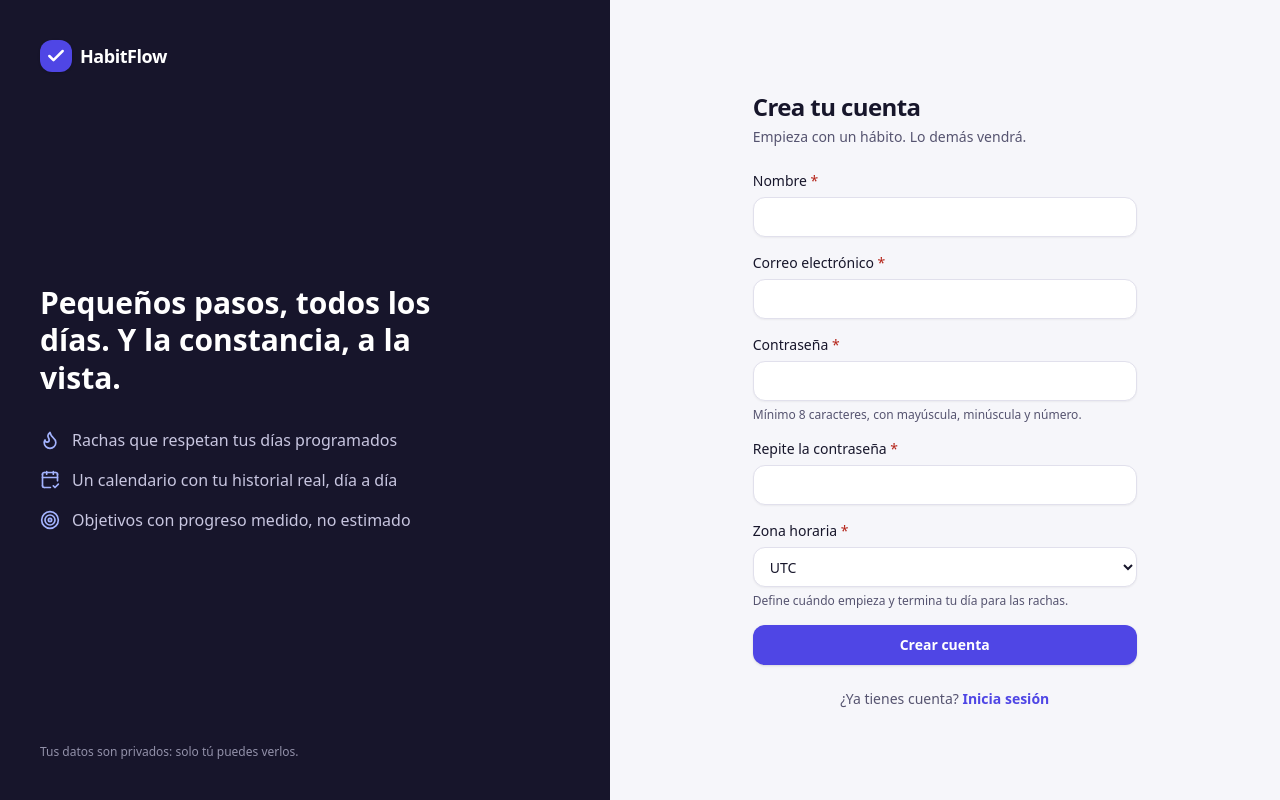
Test: registration › checks the password policy and confirmation
The image size is (1280, 800).
In the field labelled "Nombre *": coordinates (945, 217) top-left (753, 197), bottom-right (1137, 237), type "Ana"
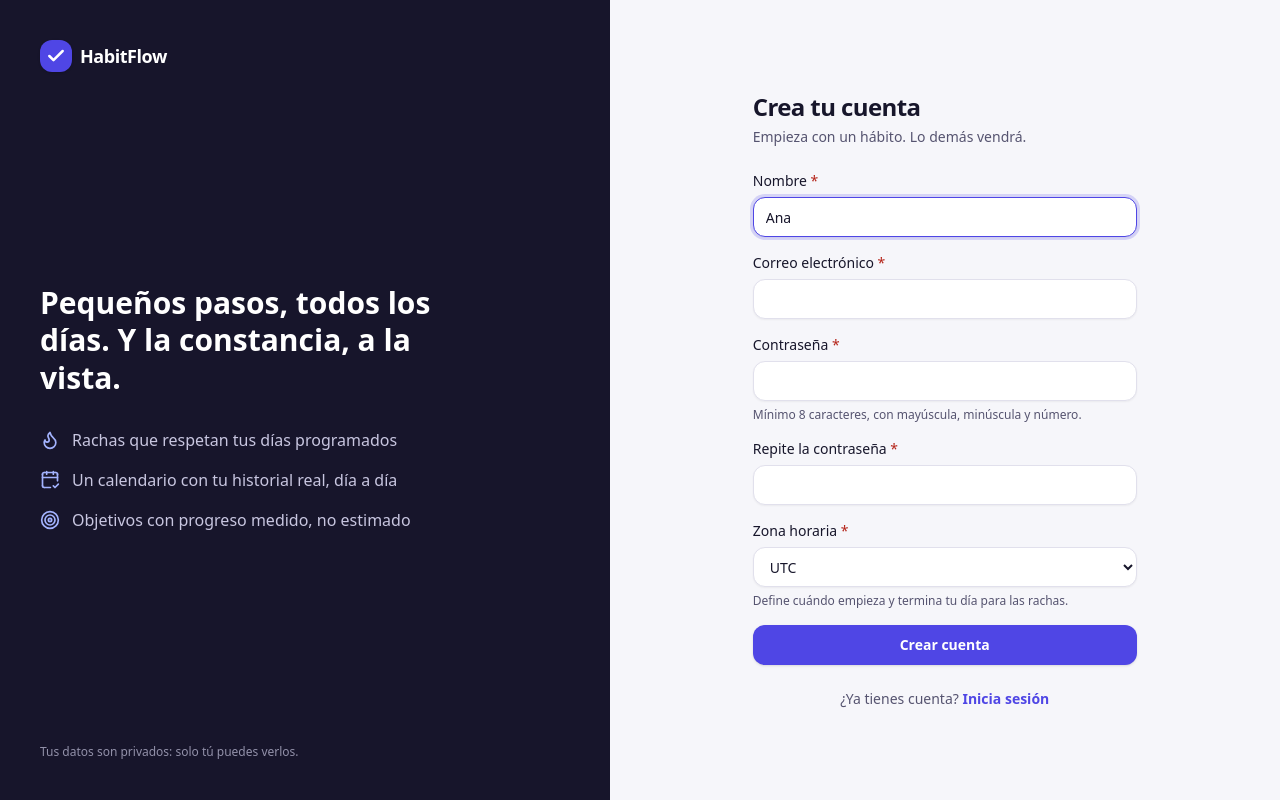
In the field labelled "Correo electrónico *": coordinates (945, 299) top-left (753, 279), bottom-right (1137, 319), type "ana@test.local"
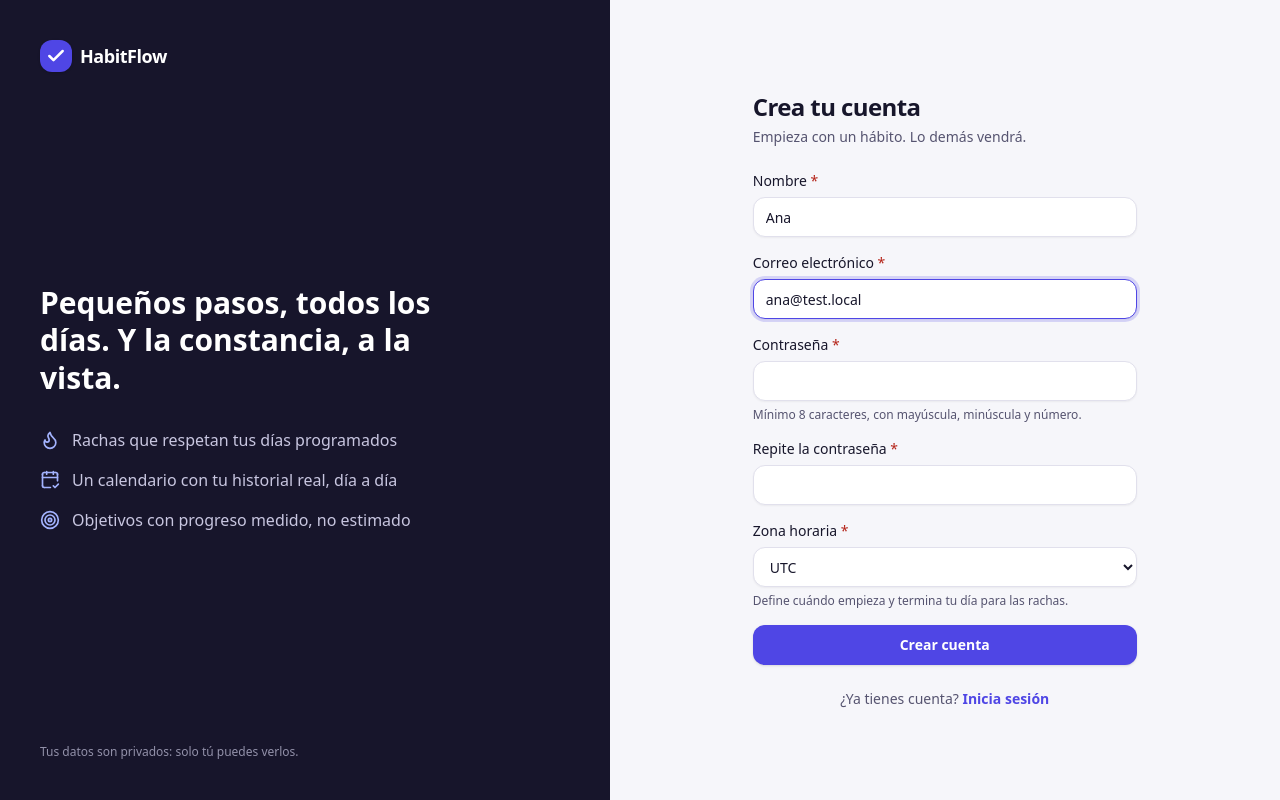
In the password field labelled "Contraseña *": coordinates (945, 381) top-left (753, 361), bottom-right (1137, 401), type "weak"
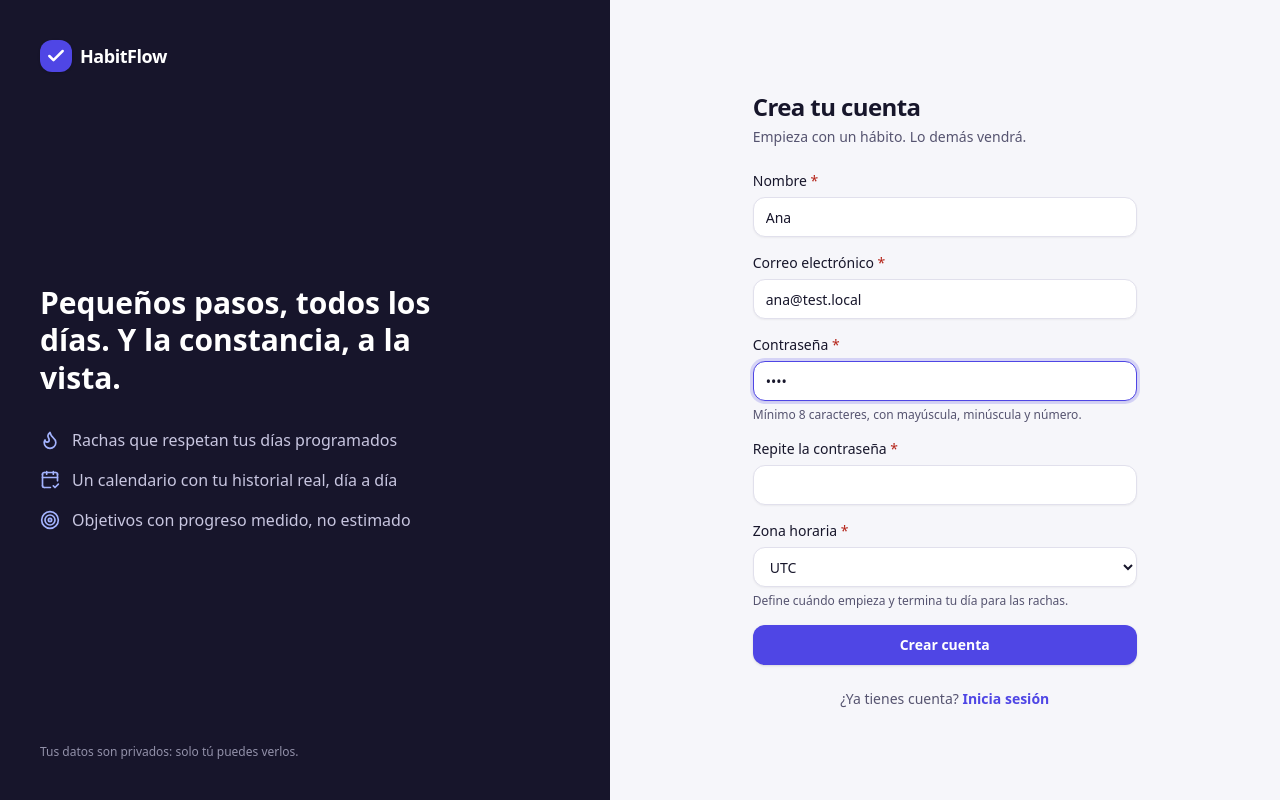
In the password field labelled "Repite la contraseña *": coordinates (945, 485) top-left (753, 465), bottom-right (1137, 505), type "other"
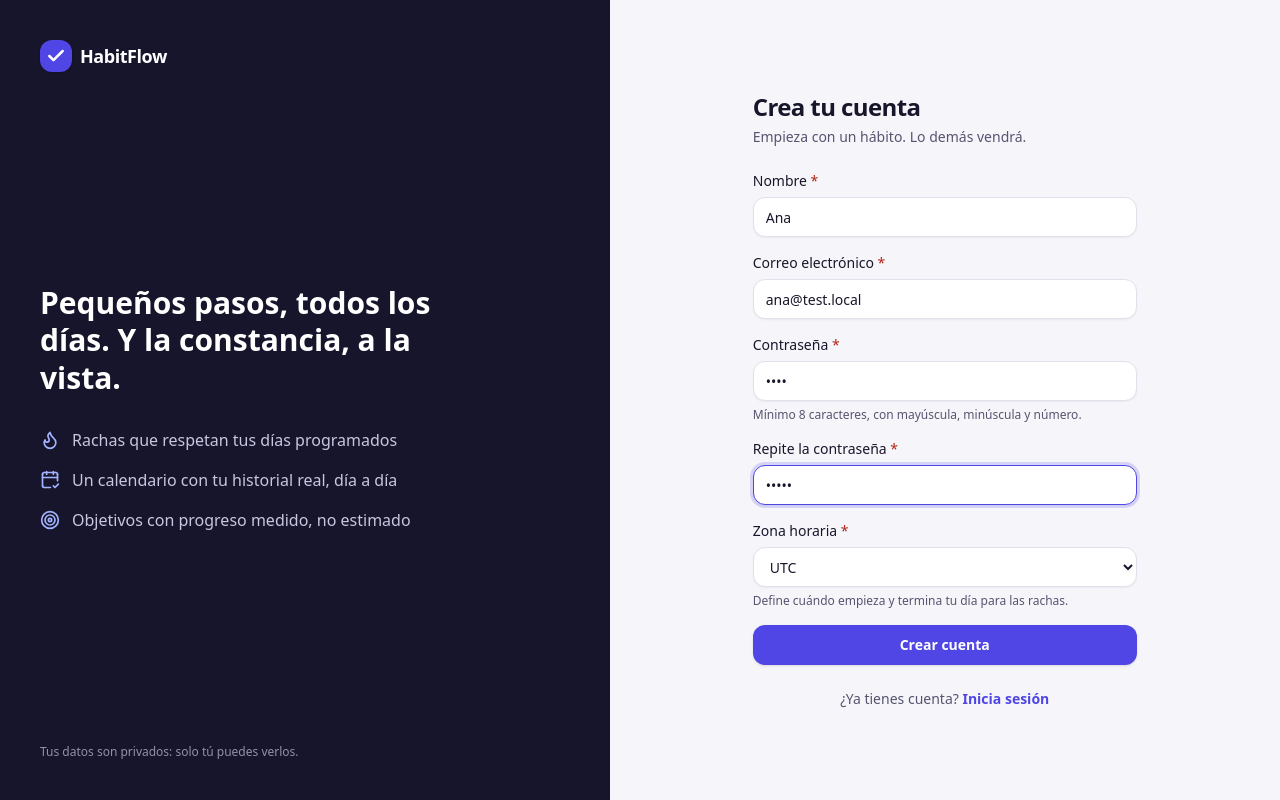
Click the button "Crear cuenta": coordinates (945, 645) top-left (753, 625), bottom-right (1137, 665)
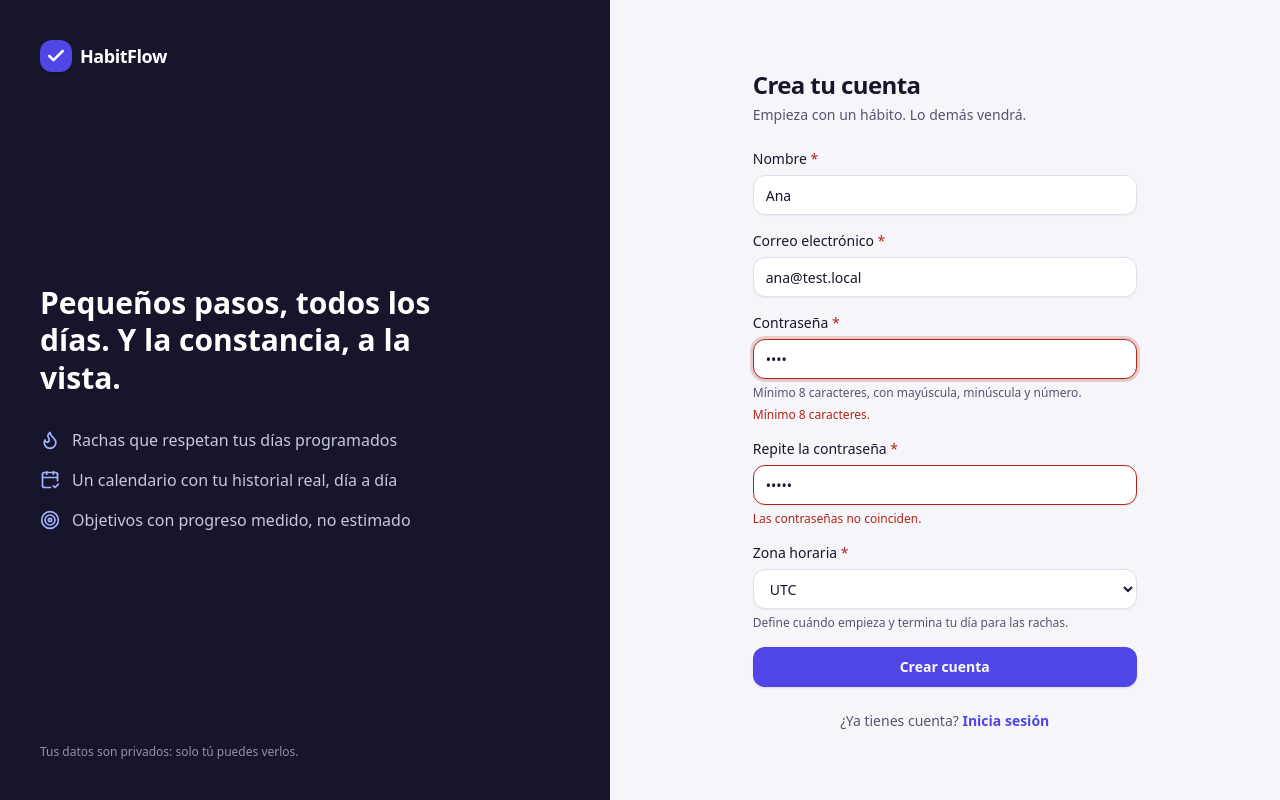
Check: the text "Mínimo 8 caracteres." is shown, box top-left (753, 406), bottom-right (870, 423)
Check: the text "Las contraseñas no coinciden." is shown, box top-left (753, 510), bottom-right (921, 527)
